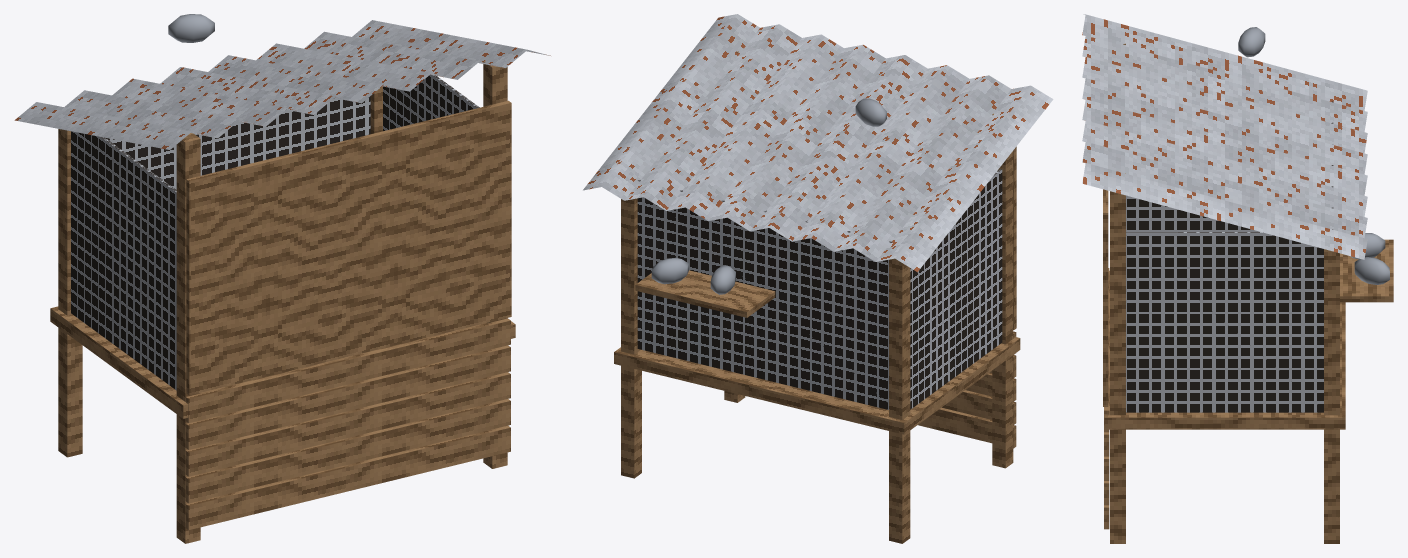
The model's file is s_cube_roofjunk_b.glb.
3 renders of one model, left to right at view 1: azimuth 30°, elevation 25°; view 2: azimuth 150°, elevation 25°; view 3: azimuth 270°, elevation 25°, orthographic. The views are drawn at different scales.
Visible parts, largest first — view 1: s_cube_roofjunk_b_mesh; view 2: s_cube_roofjunk_b_mesh; view 3: s_cube_roofjunk_b_mesh.
Boxes of the visible parts, x1,y1,x2,y2 form: s_cube_roofjunk_b_mesh: (14, 14, 550, 543); s_cube_roofjunk_b_mesh: (583, 14, 1053, 543); s_cube_roofjunk_b_mesh: (1082, 14, 1393, 543).
Size of what is drawn, in the model's own units: 1.5 by 1.69 by 1.16.
7 materials, 7 textured.
